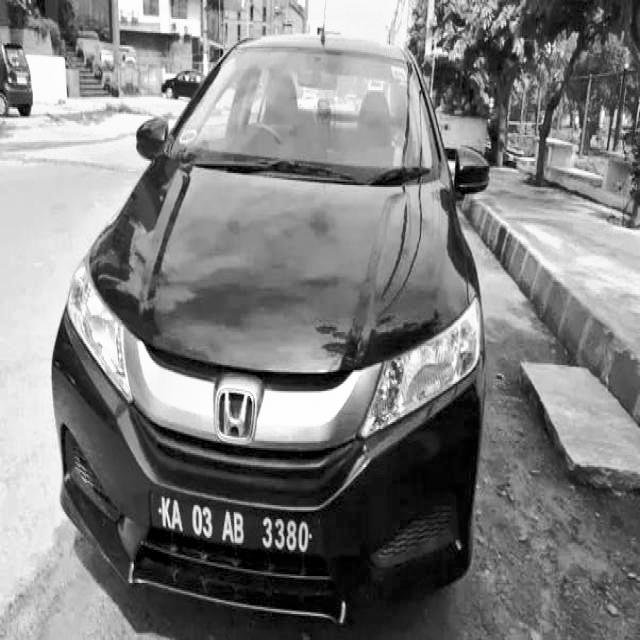Car: (46, 22, 490, 640)
